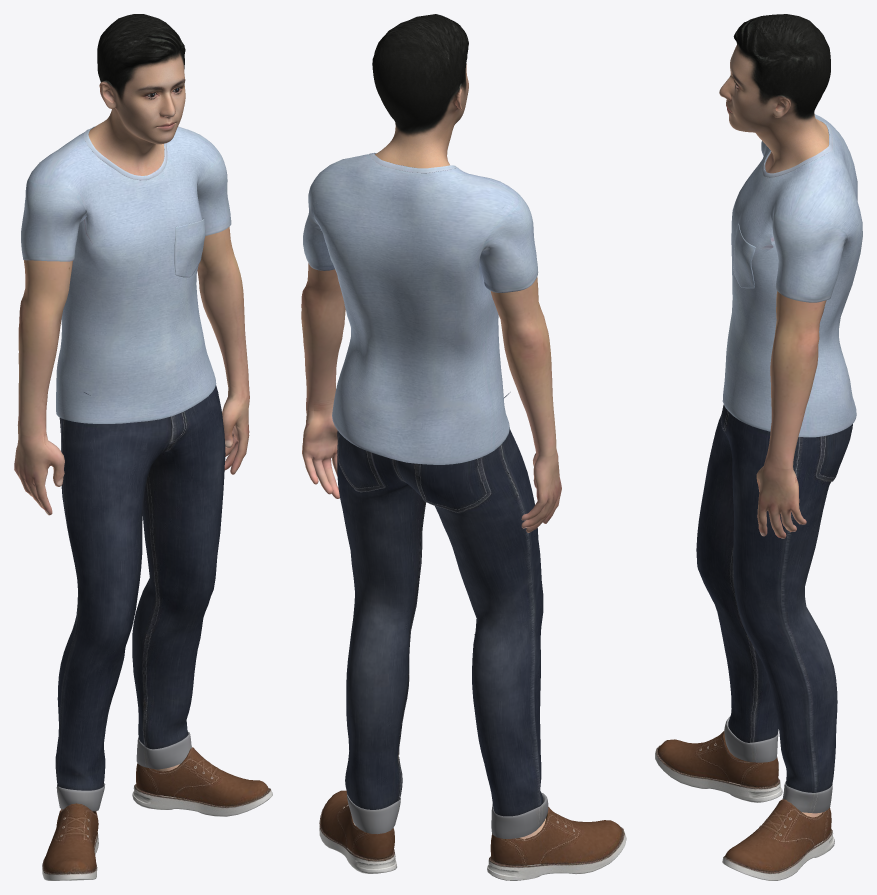
File: standing_man.glb
3 renders of one model, left to right at view 1: azimuth 30°, elevation 25°; view 2: azimuth 150°, elevation 25°; view 3: azimuth 270°, elevation 25°, orthographic. The views are drawn at different scales.
Parts seen in each view (by area): view 1: Object_13_baked, Object_7_baked, Object_15_baked, Object_9_baked, Object_11_baked; view 2: Object_13_baked, Object_7_baked, Object_15_baked, Object_11_baked, Object_9_baked; view 3: Object_13_baked, Object_15_baked, Object_7_baked, Object_9_baked, Object_11_baked.
Boxes of the visible parts, box(x1,y1,x2,y2) form: Object_13_baked: box(21, 126, 231, 811); Object_7_baked: box(14, 227, 249, 811); Object_15_baked: box(88, 14, 185, 175); Object_9_baked: box(132, 747, 272, 816); Object_11_baked: box(42, 803, 98, 880); Object_13_baked: box(303, 152, 548, 838); Object_7_baked: box(301, 263, 561, 839); Object_15_baked: box(372, 14, 468, 168); Object_11_baked: box(487, 807, 626, 880); Object_9_baked: box(319, 790, 396, 873); Object_13_baked: box(696, 114, 862, 813); Object_15_baked: box(719, 14, 830, 173); Object_7_baked: box(726, 291, 826, 817); Object_9_baked: box(722, 799, 834, 880); Object_11_baked: box(655, 731, 782, 802).
Bounding box in the file's own units: 0.5492 × 1.68 × 0.3881.
7 materials, 7 textured.
